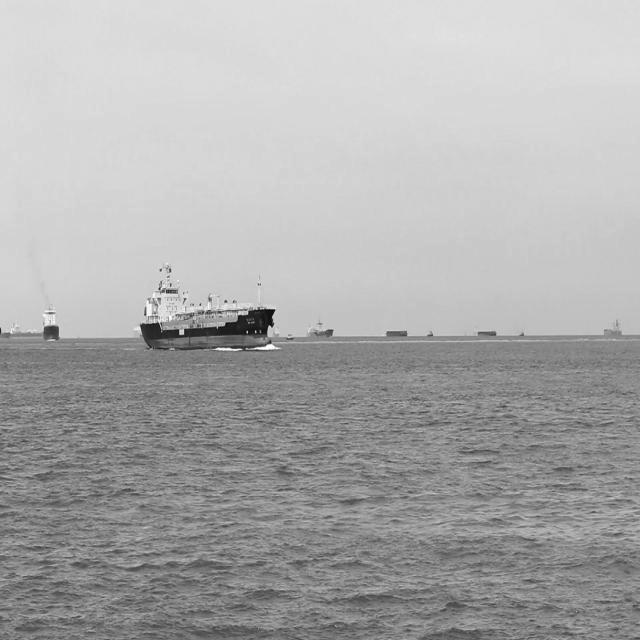ship: (138, 256, 278, 354), (0, 320, 42, 340), (43, 304, 61, 343), (305, 316, 333, 338), (601, 313, 625, 338)
